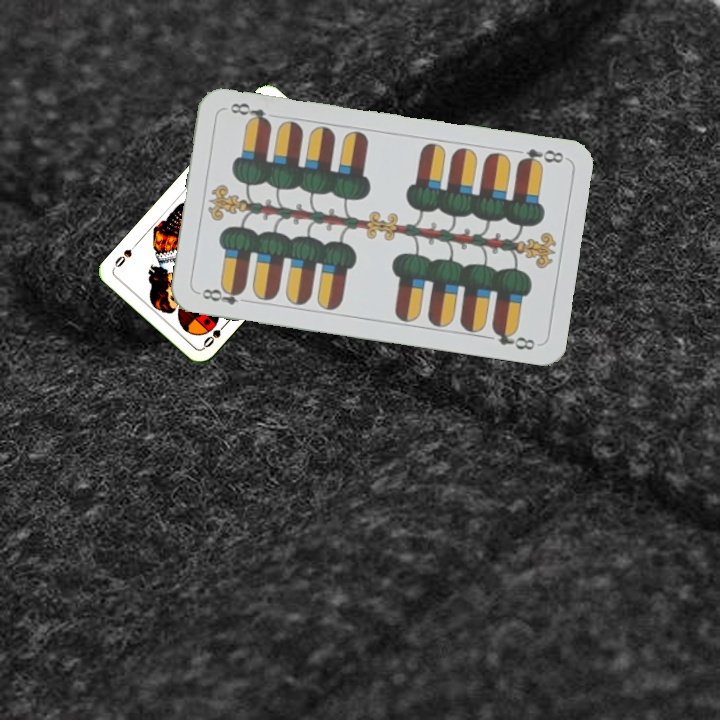E8: (194, 282, 247, 308), (514, 144, 567, 170)
SO: (199, 317, 231, 350)
